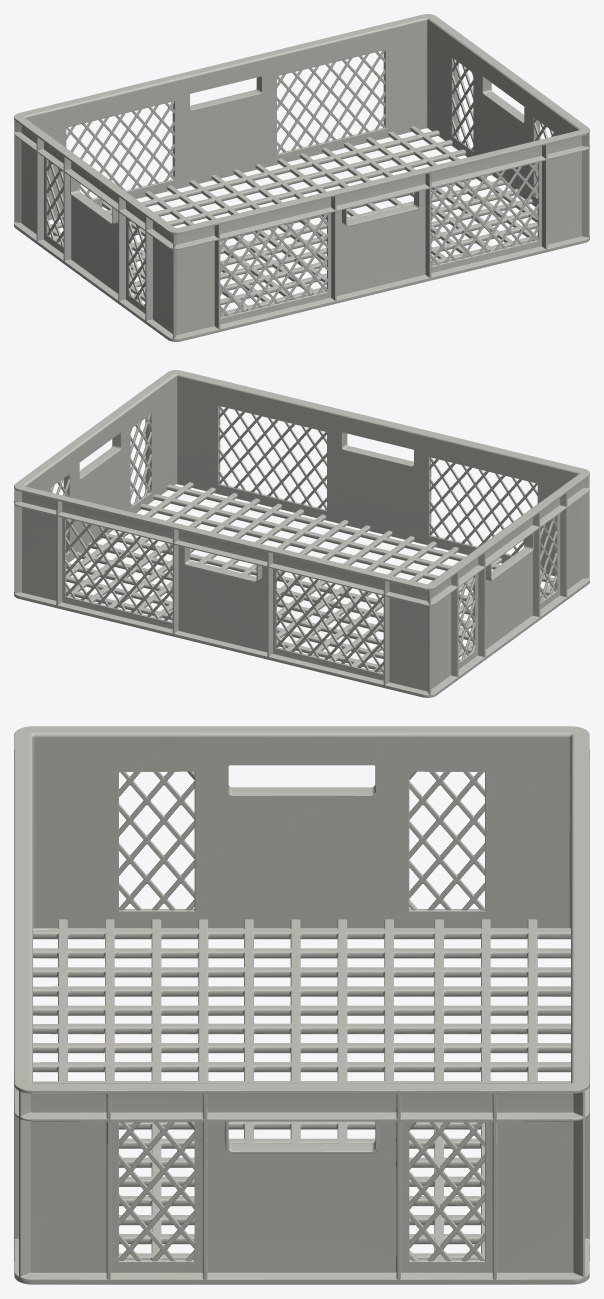
Rendered from crate_white_a14.glb.
3 views of the same model, one above another, from view 1: azimuth 30°, elevation 25°; view 2: azimuth 150°, elevation 25°; view 3: azimuth 270°, elevation 25° (orthographic). The views are drawn at different scales.
Visible parts, largest first — view 1: sm_crate_a14_mesh_00; view 2: sm_crate_a14_mesh_00; view 3: sm_crate_a14_mesh_00.
Part boxes in pixels (box(x1,y1,x2,y2)): sm_crate_a14_mesh_00: box(14, 14, 589, 341); sm_crate_a14_mesh_00: box(14, 370, 589, 697); sm_crate_a14_mesh_00: box(14, 726, 589, 1284).
Size of the model in its own units: 0.6015 by 0.1499 by 0.4018.
1 material, 1 textured.
